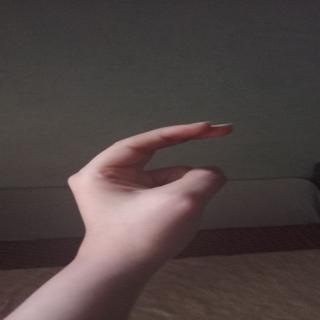ZAY: (52, 116, 285, 257)
